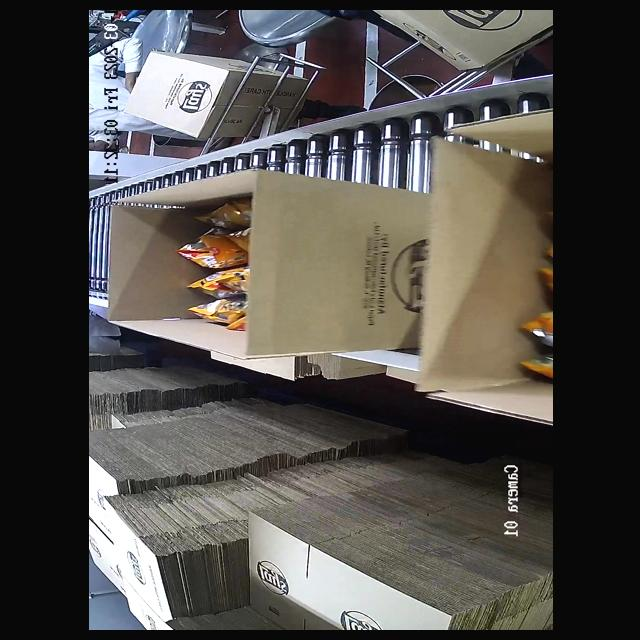cheese: (187, 208, 251, 343), (520, 206, 543, 402)
